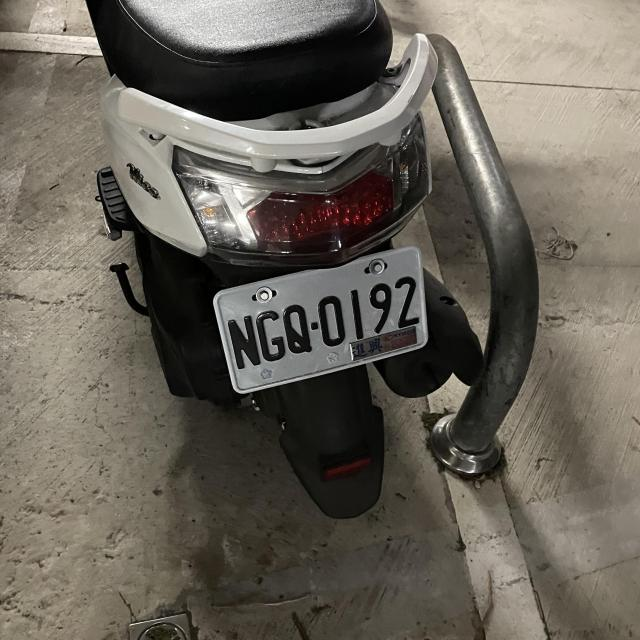W: (209, 244, 430, 396)
